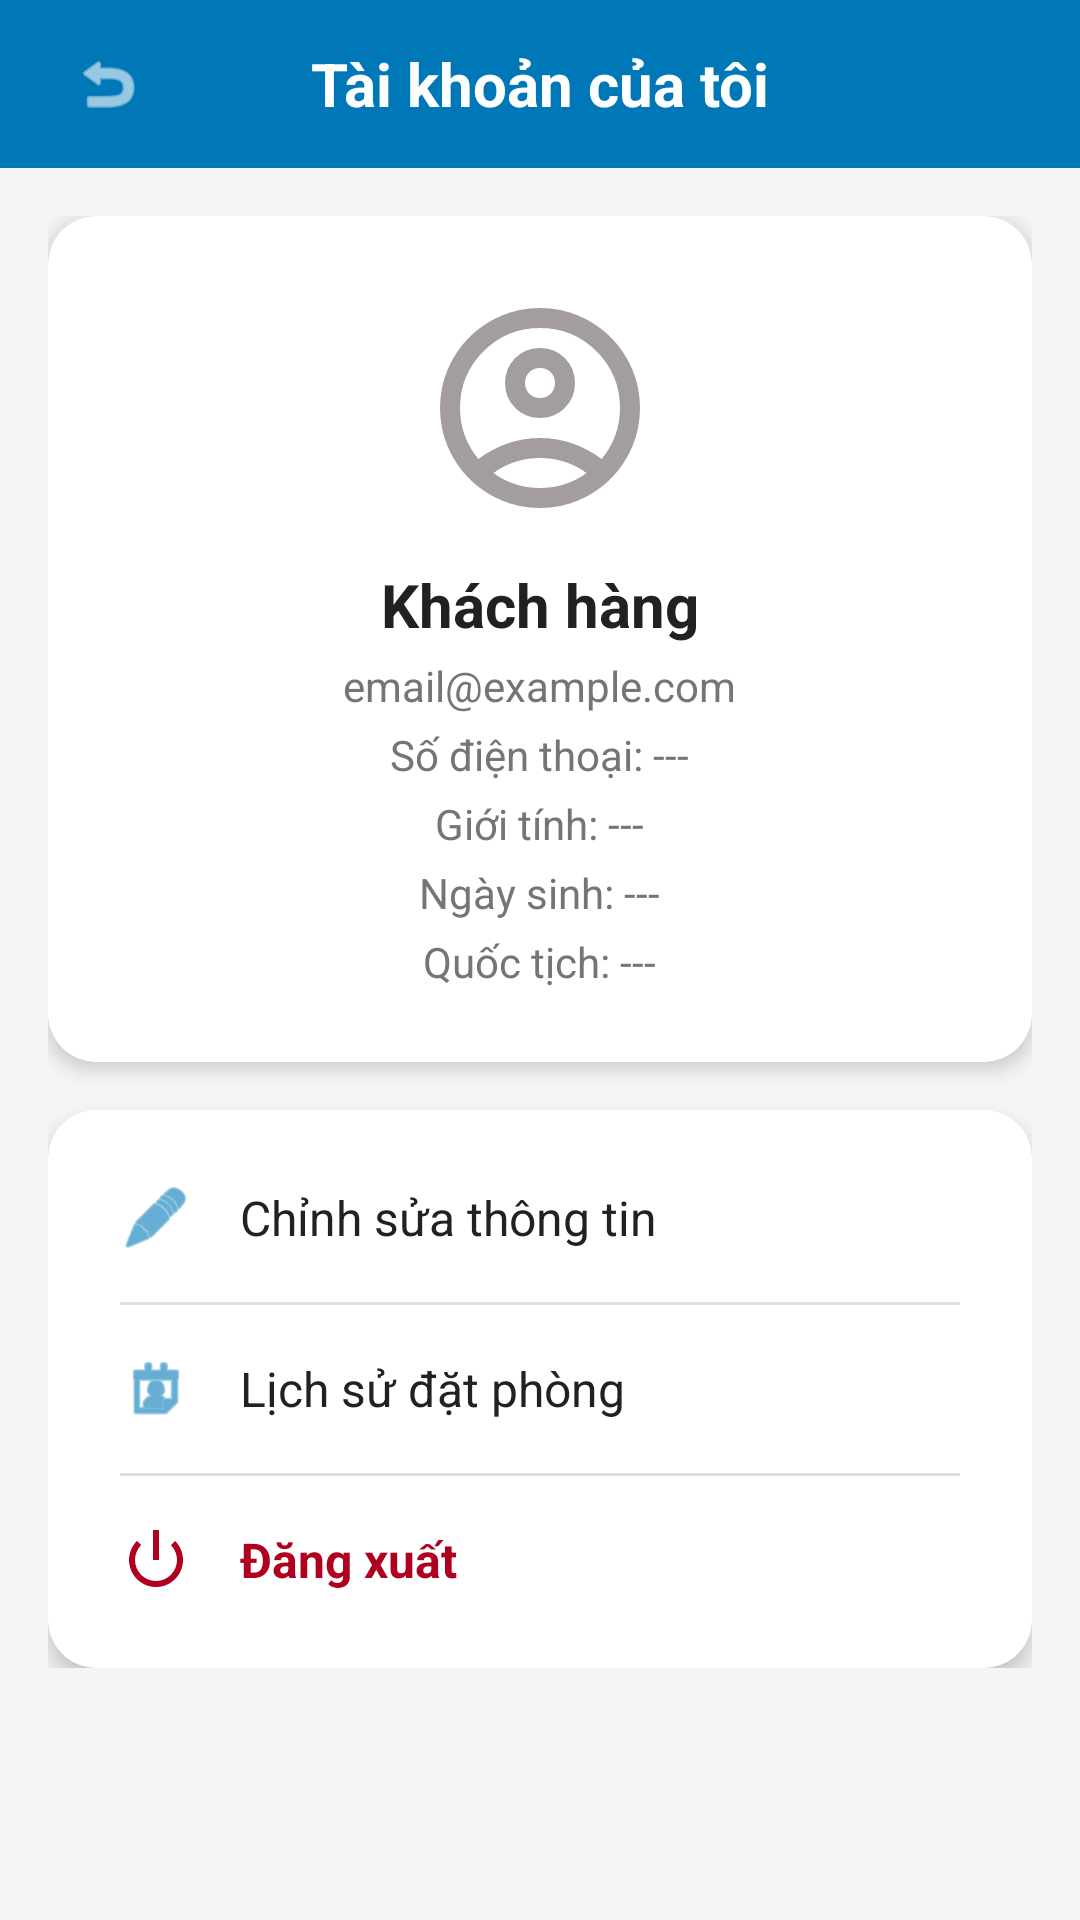

Icon click points for this 1080w x 1920h phone screenshot, format (x,y):
calendar: (156,1388)
edit: (155,1217)
lock power off: (156,1558)
revert: (109,84)
